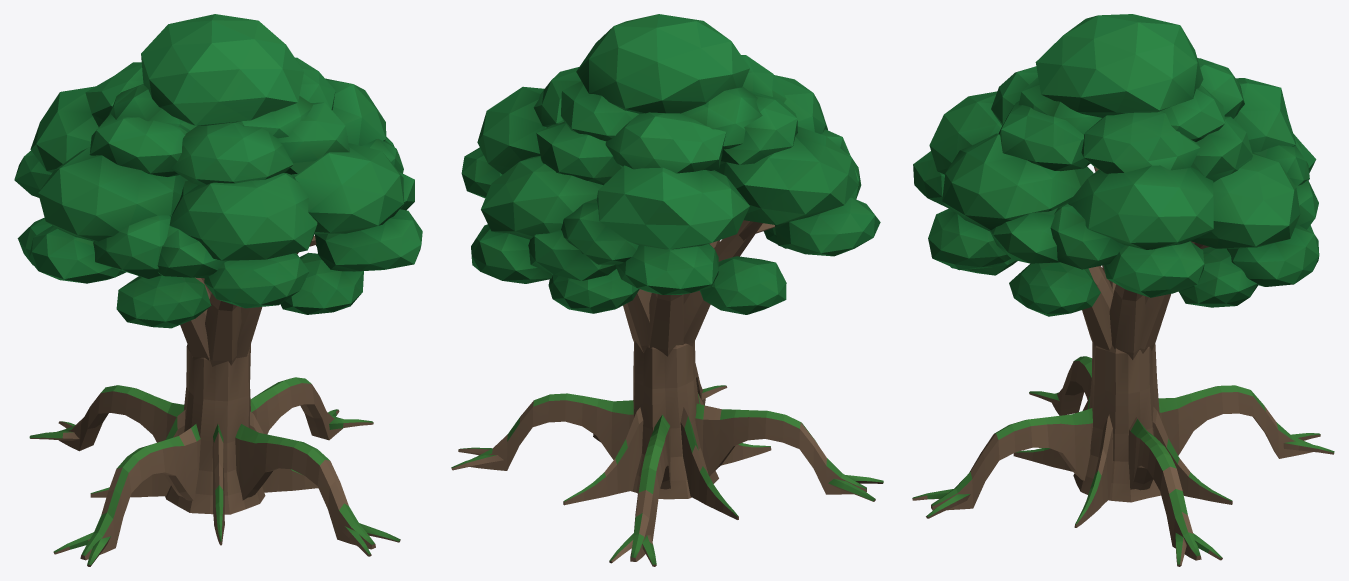
The model's file is tree_ancient_low.glb.
The picture shows the model from 3 angles, left to right: view 1: azimuth 30°, elevation 25°; view 2: azimuth 150°, elevation 25°; view 3: azimuth 270°, elevation 25°; orthographic projection. The views are drawn at different scales.
Bounding box in the file's own units: 35.28 × 40.78 × 33.89.
